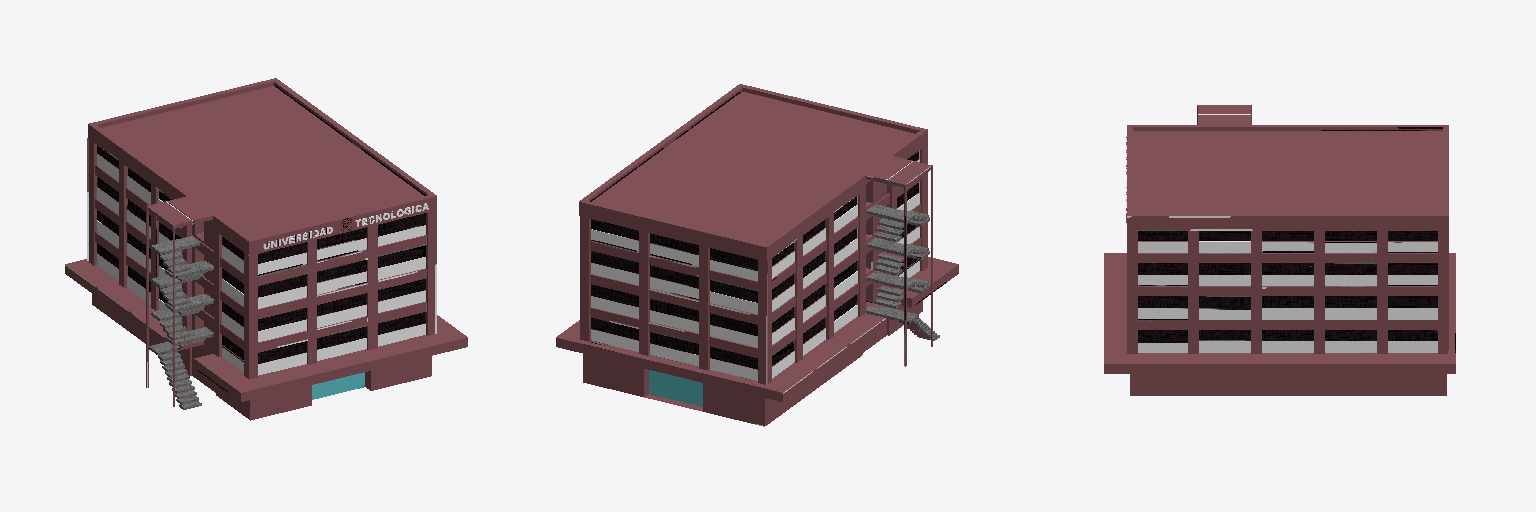
3 renders of one model, left to right at view 1: azimuth 30°, elevation 25°; view 2: azimuth 150°, elevation 25°; view 3: azimuth 270°, elevation 25°, orthographic.
Visible parts, largest first — view 1: Morazan_v21; view 2: Morazan_v21; view 3: Morazan_v21.
Part boxes in pixels (left/top/right/bottom): Morazan_v21: left=65, top=78, right=467, bottom=420; Morazan_v21: left=556, top=84, right=958, bottom=426; Morazan_v21: left=1104, top=105, right=1455, bottom=395.
Size of the model in its own units: 546 by 381 by 670.
Materials: 1 (1 with a texture image).